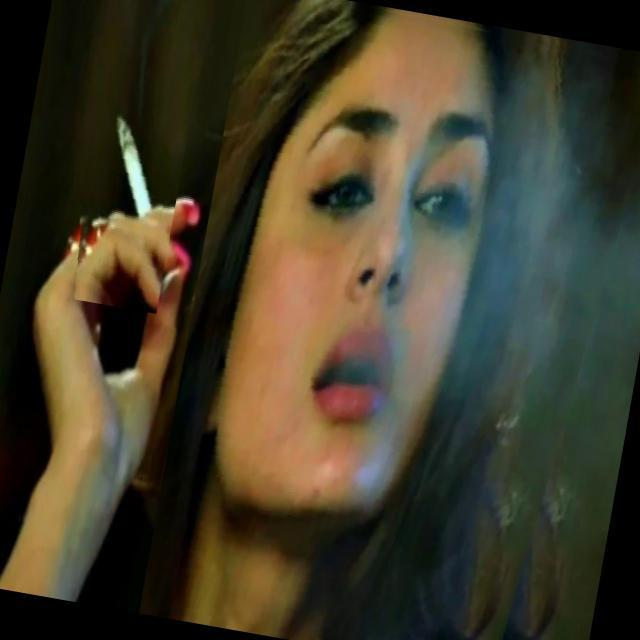cigarette: (56, 70, 196, 314)
